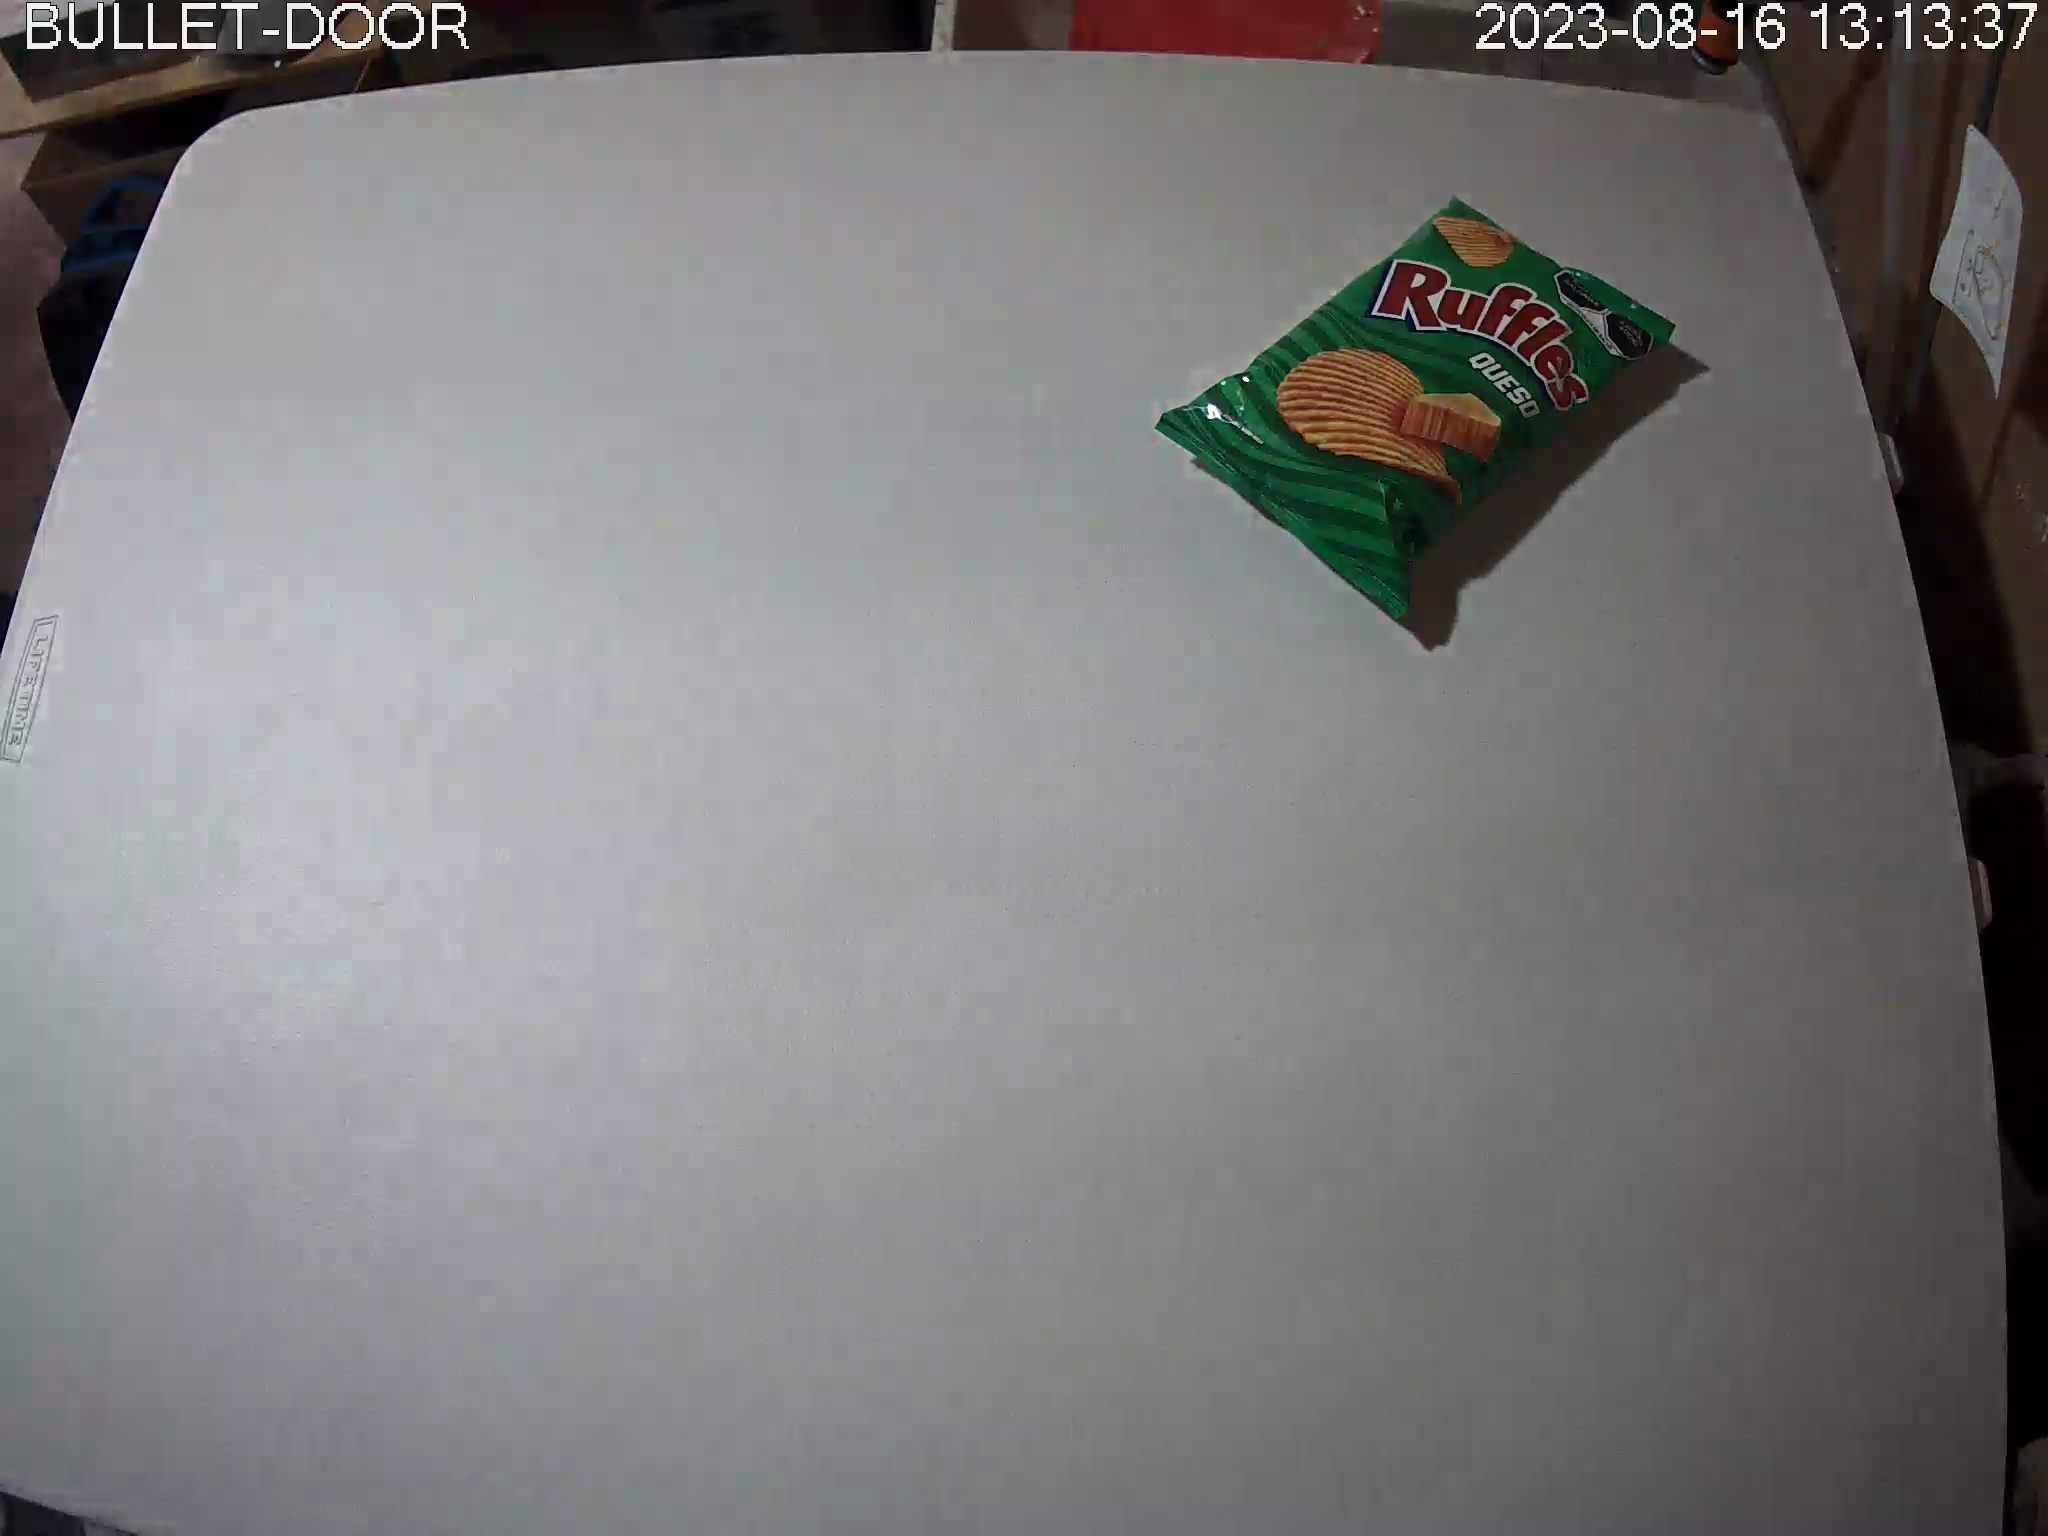RufflesQ_48_F: (1155, 194, 1675, 628)
